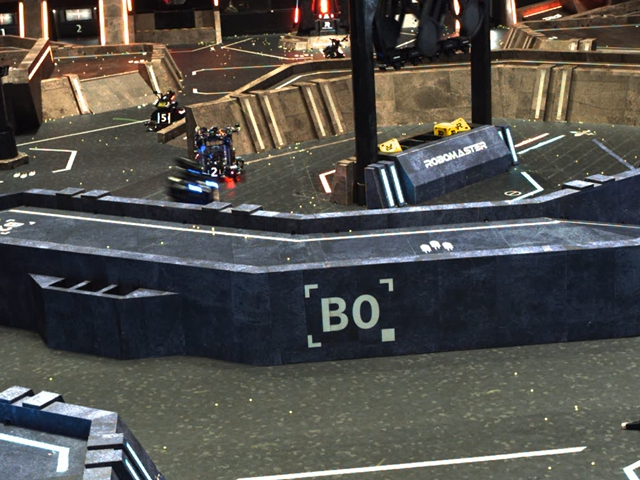rm: (194, 127, 248, 182), (147, 89, 181, 130), (326, 38, 348, 58)
